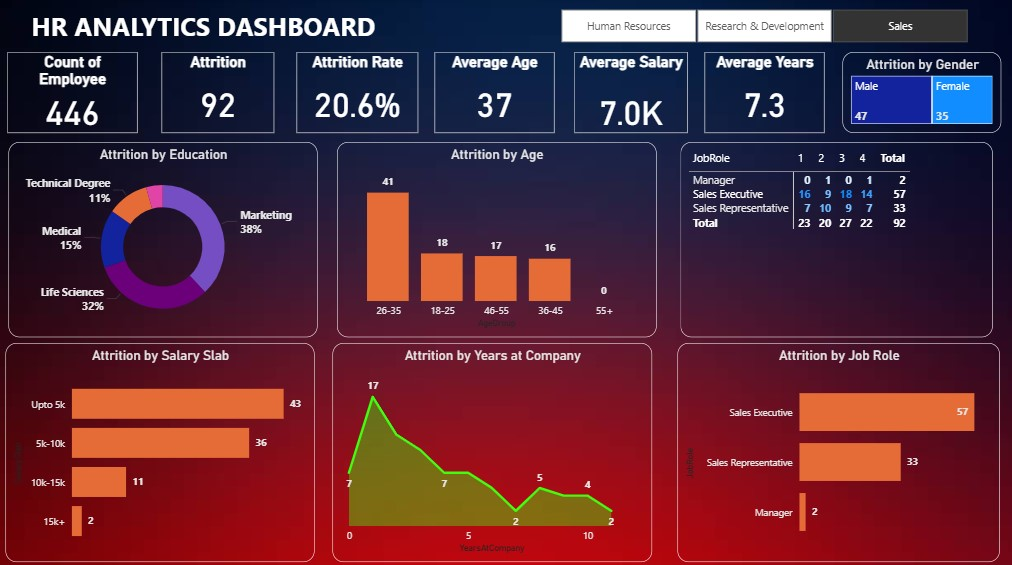

Layout of this report page (visuals, bound fields, positions):
{"tool":"powerbi","page":{"name":"Page 1","canvas":[1280,720],"ordinal":0},"visuals":[{"type":"group","id":"g1","title":"Group 1","box":[11.2,68.1,1252.9,102],"z":0},{"type":"card","title":"Count of Employee","fields":{"Values":["CountNonNull(HR_Analytics (2).EmpID)"]},"box":[11.2,68.1,164.4,102],"z":0,"group":"g1"},{"type":"card","title":"Attrition","fields":{"Values":["Sum(HR_Analytics (2).AttritionCount)"]},"box":[205.8,68.1,141.7,102],"z":1000,"group":"g1"},{"type":"group","id":"g2","title":"Group 2","box":[9.4,434.4,1252.9,275.9],"z":1000},{"type":"card","title":"Attrition Rate","fields":{"Values":["HR_Analytics (2).AttritionRate"]},"box":[375.9,68.1,153.1,102],"z":2000,"group":"g1"},{"type":"group","id":"g3","title":"Group 3","box":[13,181.5,1239.7,245.7],"z":2000},{"type":"slicer","fields":{"Values":["HR_Analytics (2).Department"]},"box":[684.1,7.6,561.3,54.8],"z":3000},{"type":"card","title":"Average Age ","fields":{"Values":["Avg(HR_Analytics (2).Age)"]},"box":[549.8,68.1,151.2,102],"z":3000,"group":"g1"},{"type":"textbox","box":[13.2,7.6,491.3,54.8],"z":4000},{"type":"card","title":"Average Salary ","fields":{"Values":["Avg(HR_Analytics (2).MonthlyIncome)"]},"box":[725.5,68.1,143.6,102],"z":4000,"group":"g1"},{"type":"card","title":"Average Years","fields":{"Values":["Avg(HR_Analytics (2).YearsAtCompany)"]},"box":[889.9,68.1,151.2,102],"z":5000,"group":"g1"},{"type":"donutChart","title":"Attrition by Education","fields":{"Category":["HR_Analytics (2).EducationField"],"Y":["Sum(HR_Analytics (2).AttritionCount)"]},"box":[13,181.5,389.3,245.7],"z":6000,"group":"g3"},{"type":"columnChart","title":"Attrition by Age","fields":{"Category":["HR_Analytics (2).AgeGroup"],"Y":["Sum(HR_Analytics (2).AttritionCount)"]},"box":[426.9,181.5,402.5,245.7],"z":7000,"group":"g3"},{"type":"pivotTable","fields":{"Rows":["HR_Analytics (2).JobRole"],"Columns":["HR_Analytics (2).JobSatisfaction"],"Values":["Sum(HR_Analytics (2).AttritionCount)"]},"box":[859.6,181.5,393.1,245.7],"z":8000,"group":"g3"},{"type":"barChart","title":"Attrition by Salary Slab","fields":{"Category":["HR_Analytics (2).SalarySlab"],"Y":["Sum(HR_Analytics (2).AttritionCount)"]},"box":[9.4,434.4,389.3,275.9],"z":9000,"group":"g2"},{"type":"barChart","title":"Attrition by Job Role","fields":{"Category":["HR_Analytics (2).JobRole","HR_Analytics (2).SalarySlab"],"Y":["Sum(HR_Analytics (2).AttritionCount)"]},"box":[856,434.4,406.3,275.9],"z":10000,"group":"g2"},{"type":"areaChart","title":"Attrition by Years at Company","fields":{"Category":["HR_Analytics (2).YearsAtCompany"],"Y":["Sum(HR_Analytics (2).AttritionCount)"]},"box":[421.4,434.4,402.5,275.9],"z":11000,"group":"g2"},{"type":"treemap","title":"Attrition by Gender","fields":{"Group":["HR_Analytics (2).Gender"],"Values":["Sum(HR_Analytics (2).AttritionCount)"]},"box":[1063.8,68.1,200.3,102],"z":12000,"group":"g1"}]}

Visuals, with their boxes in screenshot pixels (x1, y1, x2, y2), scaled from the page's 1280x720 canvas onto the 1012x565 screenshot:
"Group 1" group: rect(9, 53, 999, 133)
"Count of Employee" card: rect(9, 53, 139, 133)
"Attrition" card: rect(163, 53, 275, 133)
"Group 2" group: rect(7, 341, 998, 557)
"Attrition Rate" card: rect(297, 53, 418, 133)
"Group 3" group: rect(10, 142, 990, 335)
slicer - HR_Analytics (2).Department: rect(541, 6, 985, 49)
"Average Age " card: rect(435, 53, 554, 133)
textbox: rect(10, 6, 399, 49)
"Average Salary " card: rect(574, 53, 687, 133)
"Average Years" card: rect(704, 53, 823, 133)
"Attrition by Education" donutChart: rect(10, 142, 318, 335)
"Attrition by Age" columnChart: rect(338, 142, 656, 335)
pivotTable - HR_Analytics (2).JobRole x HR_Analytics (2).JobSatisfaction: rect(680, 142, 990, 335)
"Attrition by Salary Slab" barChart: rect(7, 341, 315, 557)
"Attrition by Job Role" barChart: rect(677, 341, 998, 557)
"Attrition by Years at Company" areaChart: rect(333, 341, 651, 557)
"Attrition by Gender" treemap: rect(841, 53, 999, 133)
